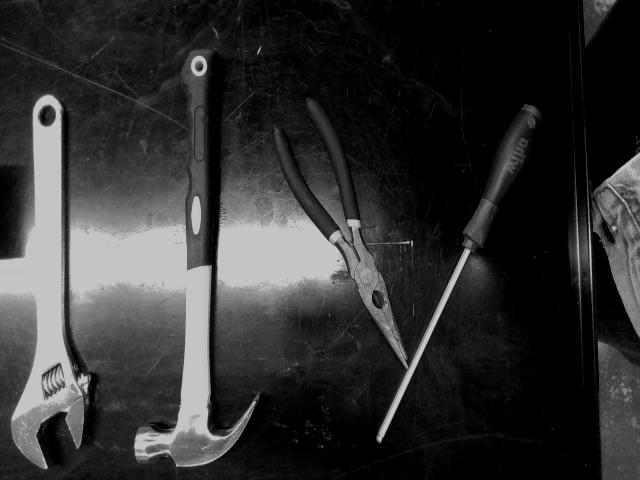Adjustable spanner: (11, 95, 91, 468)
Hammer: (134, 50, 259, 466)
Needle-nose pliers: (274, 98, 408, 368)
Screwdriver: (376, 103, 542, 442)
